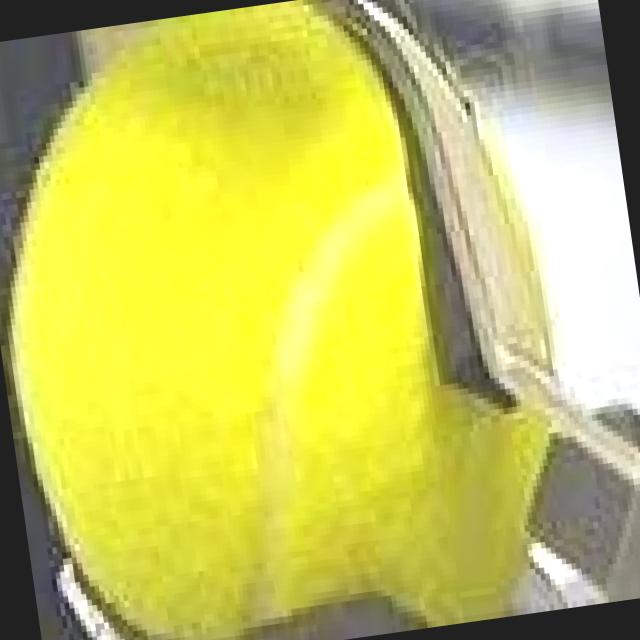Tennis Ball: (10, 0, 542, 640)
